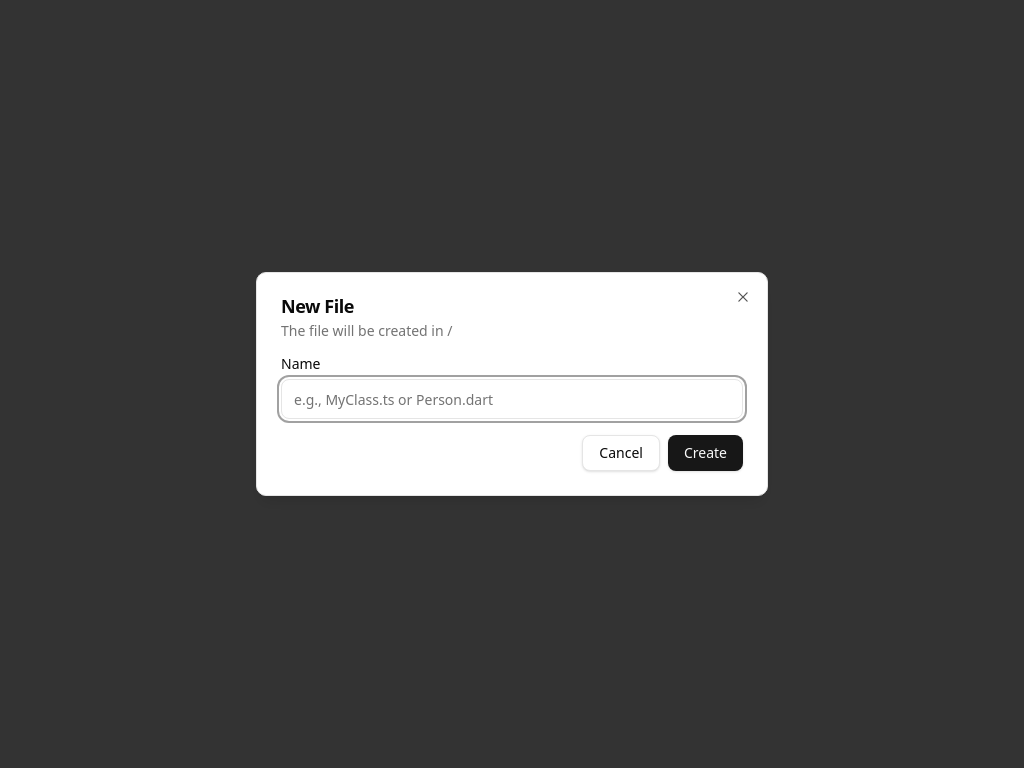
CreateDialog - File Extension Validation › Rejects files without extension › shows error when file name has no extension
In the field: (512, 399) [281,379,743,419], type "Person"
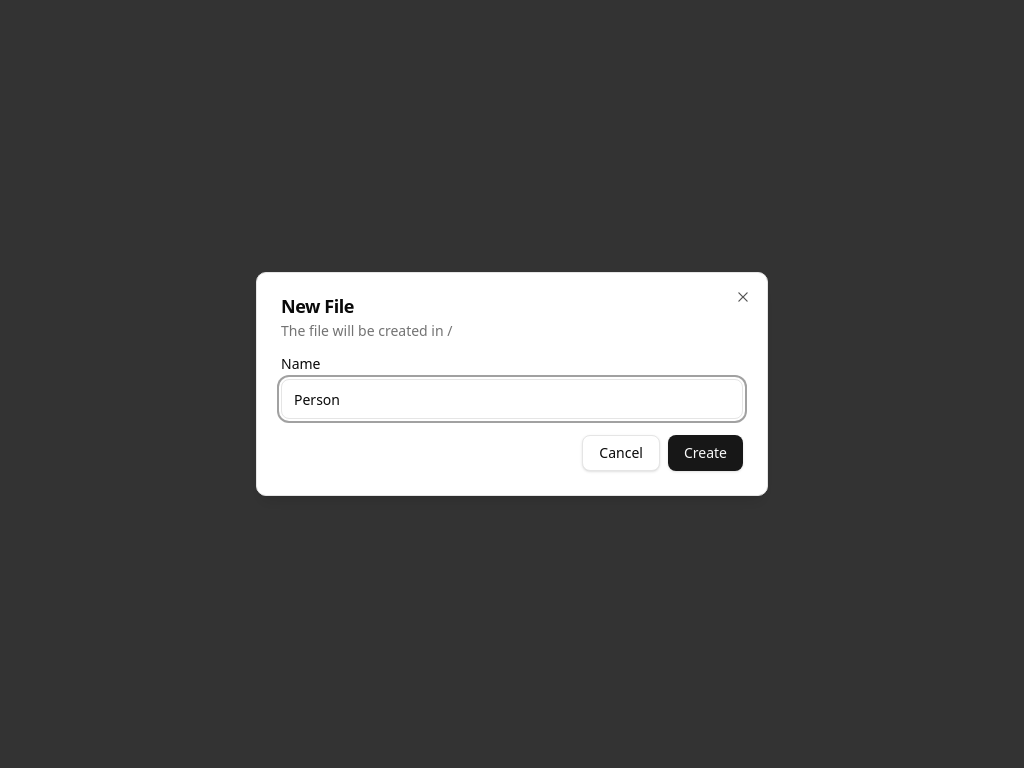
Click the button "Create": (705, 453) [668,435,743,471]
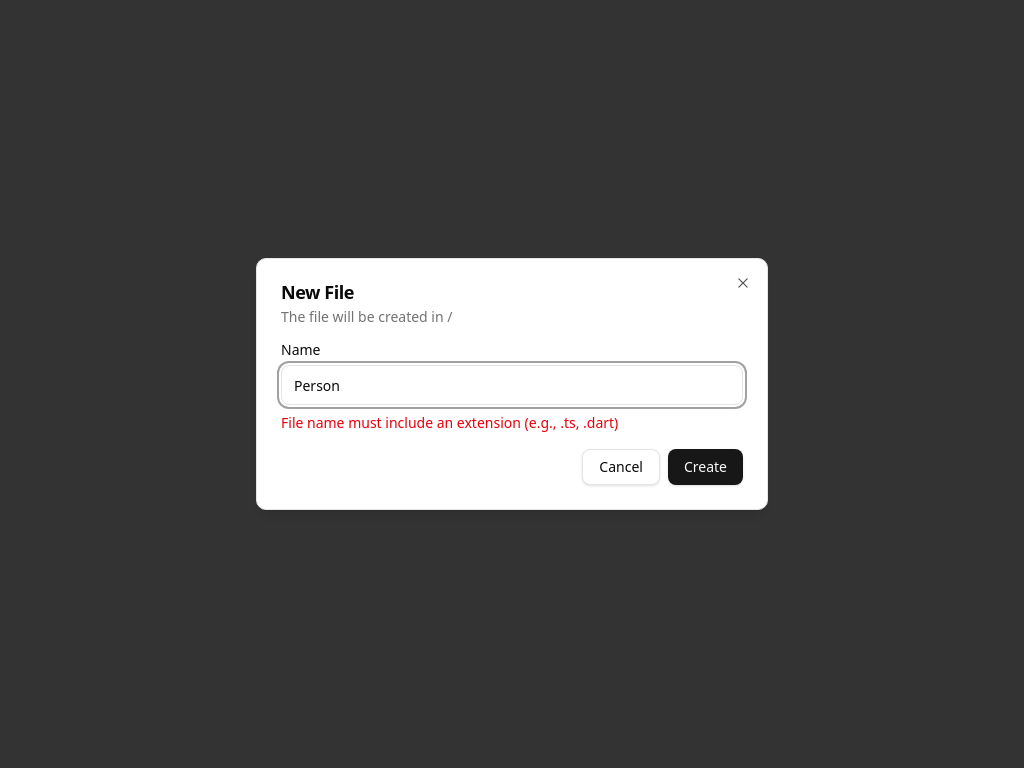
Check: the message shows "extension", box [281,413,618,432]
